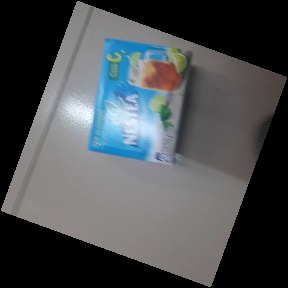Nestea: (84, 35, 194, 169)
